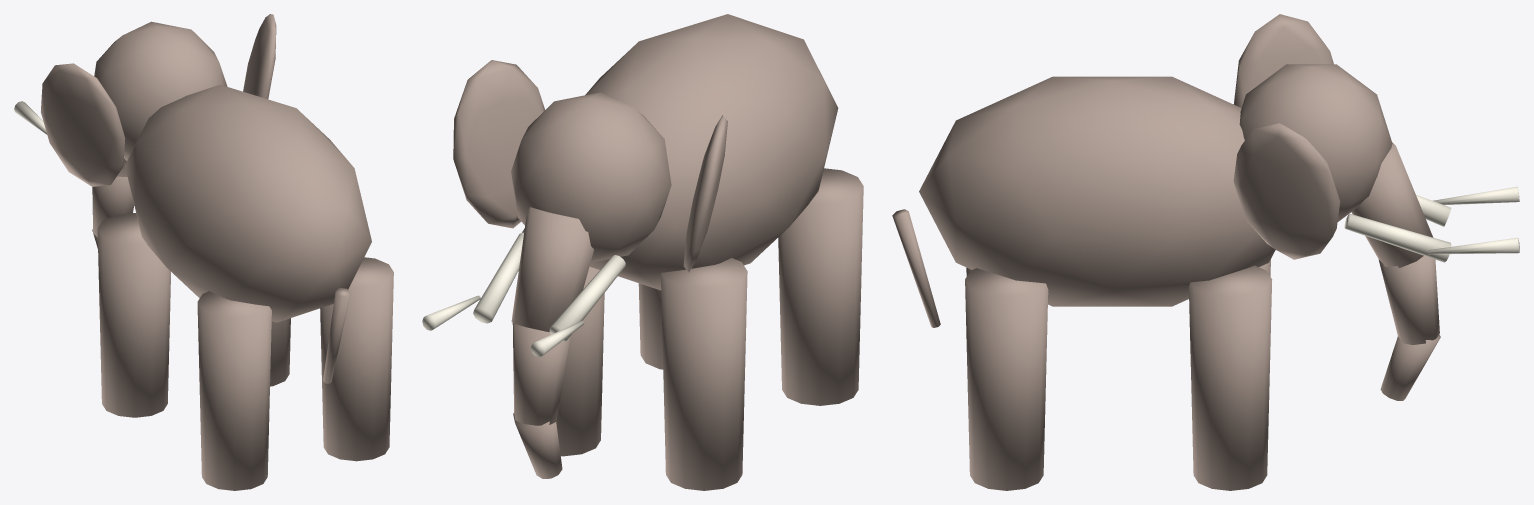
Rendered from Kenya_Elephant_Sculpted.glb.
The picture shows the model from 3 angles, left to right: view 1: azimuth 30°, elevation 25°; view 2: azimuth 150°, elevation 25°; view 3: azimuth 270°, elevation 25°; orthographic projection. The views are drawn at different scales.
Parts seen in each view (by area): view 1: Body, Leg_-0.64_-0.96, Leg_-0.64_0.86, Leg_0.64_-0.96, Head.002, Ear_-1.002, Ear_1.002, TrunkMid, Leg_0.64_0.86, Tail.002, TuskTip_-1; view 2: Body, Head.002, Leg_-0.64_0.86, Leg_-0.64_-0.96, Ear_1.002, TrunkUpper, Leg_0.64_0.86, TrunkMid, Ear_-1.002, TrunkTip, Leg_0.64_-0.96, TuskBase_-1 (+3 smaller); view 3: Body, Leg_0.64_0.86, Leg_0.64_-0.96, Head.002, Ear_1.002, Ear_-1.002, TrunkUpper, TrunkMid, TrunkTip, TuskBase_1, Tail.002, TuskTip_1 (+1 smaller).
Part boxes in pixels (bbox=[...]): Body: bbox=[125, 84, 371, 322]; Leg_-0.64_-0.96: bbox=[197, 291, 271, 490]; Leg_-0.64_0.86: bbox=[97, 213, 170, 417]; Leg_0.64_-0.96: bbox=[320, 257, 393, 461]; Head.002: bbox=[94, 21, 227, 160]; Ear_-1.002: bbox=[41, 63, 125, 186]; Ear_1.002: bbox=[243, 14, 276, 99]; TrunkMid: bbox=[92, 176, 134, 237]; Leg_0.64_0.86: bbox=[270, 318, 290, 386]; Tail.002: bbox=[323, 288, 350, 383]; TuskTip_-1: bbox=[14, 101, 47, 134]; Body: bbox=[585, 14, 838, 290]; Head.002: bbox=[511, 92, 671, 262]; Leg_-0.64_0.86: bbox=[661, 258, 747, 490]; Leg_-0.64_-0.96: bbox=[778, 168, 863, 405]; Ear_1.002: bbox=[453, 60, 544, 228]; TrunkUpper: bbox=[511, 207, 593, 331]; Leg_0.64_0.86: bbox=[522, 228, 604, 456]; TrunkMid: bbox=[512, 323, 570, 425]; Ear_-1.002: bbox=[683, 115, 727, 272]; TrunkTip: bbox=[513, 413, 562, 478]; Leg_0.64_-0.96: bbox=[638, 283, 663, 369]; TuskBase_-1: bbox=[549, 255, 625, 342]; Body: bbox=[919, 76, 1275, 306]; Leg_0.64_0.86: bbox=[1189, 265, 1272, 490]; Leg_0.64_-0.96: bbox=[965, 268, 1048, 490]; Head.002: bbox=[1239, 64, 1392, 221]; Ear_1.002: bbox=[1233, 123, 1340, 259]; Ear_-1.002: bbox=[1233, 14, 1333, 107]; TrunkUpper: bbox=[1351, 142, 1433, 267]; TrunkMid: bbox=[1378, 256, 1439, 344]; TrunkTip: bbox=[1380, 334, 1440, 400]; TuskBase_1: bbox=[1344, 213, 1451, 262]; Tail.002: bbox=[892, 209, 940, 327]; TuskTip_1: bbox=[1428, 237, 1519, 254].
Bounding box in the file's own units: 2.33 × 3.37 × 5.11.
